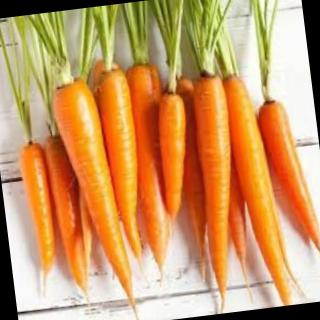Wortel: (49, 75, 136, 307), (223, 70, 299, 311), (186, 73, 250, 294), (97, 66, 156, 274), (259, 94, 320, 273), (20, 141, 67, 301), (150, 91, 203, 231)
